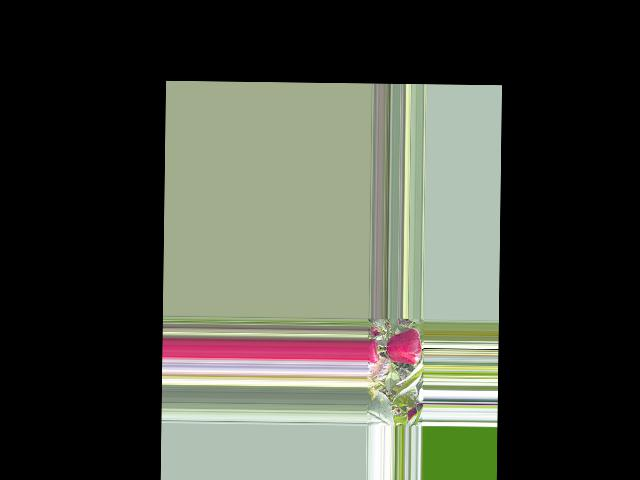bell_pepper: (366, 337, 381, 365)
